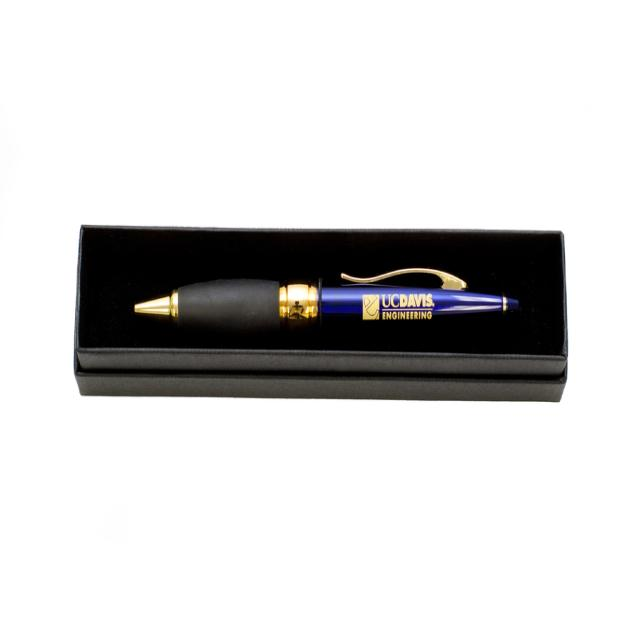pen: (132, 260, 524, 330)
